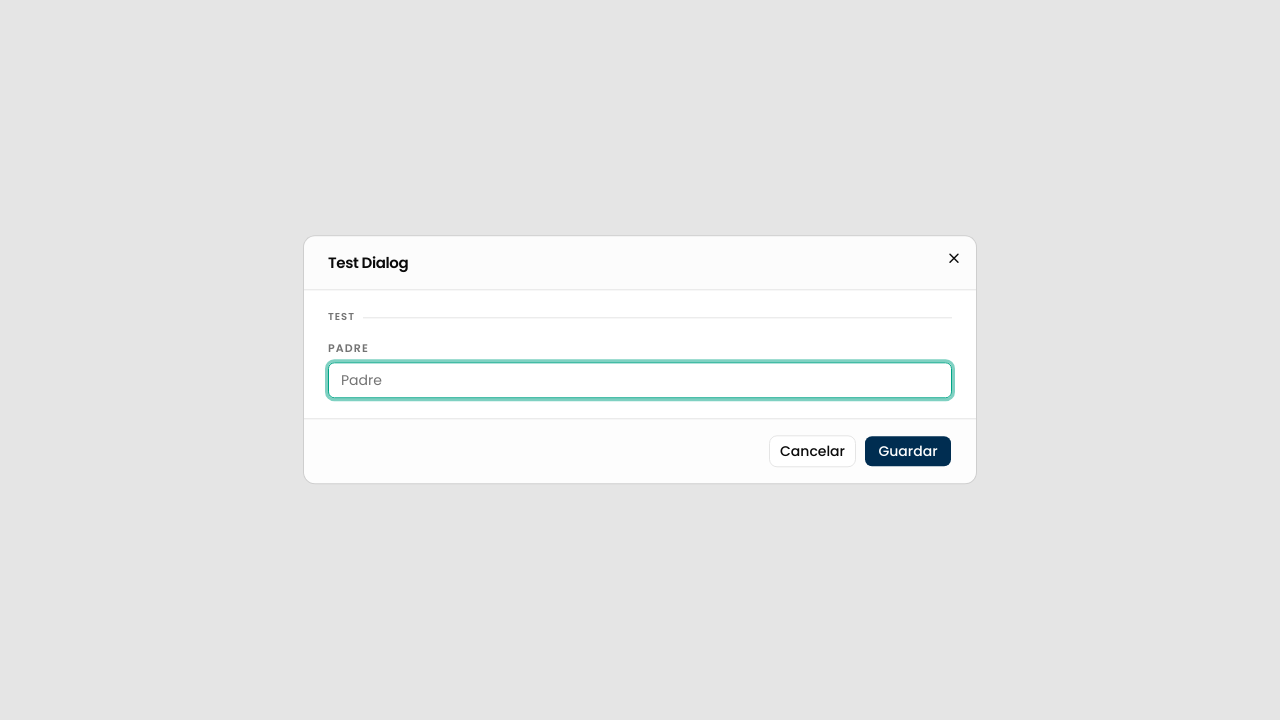
Scenario: AutocompleteField › closes dropdown on blur after 150ms
Type "ab" into the field with placeholder "Padre". click: (640, 381)
box: [328,363,952,399]
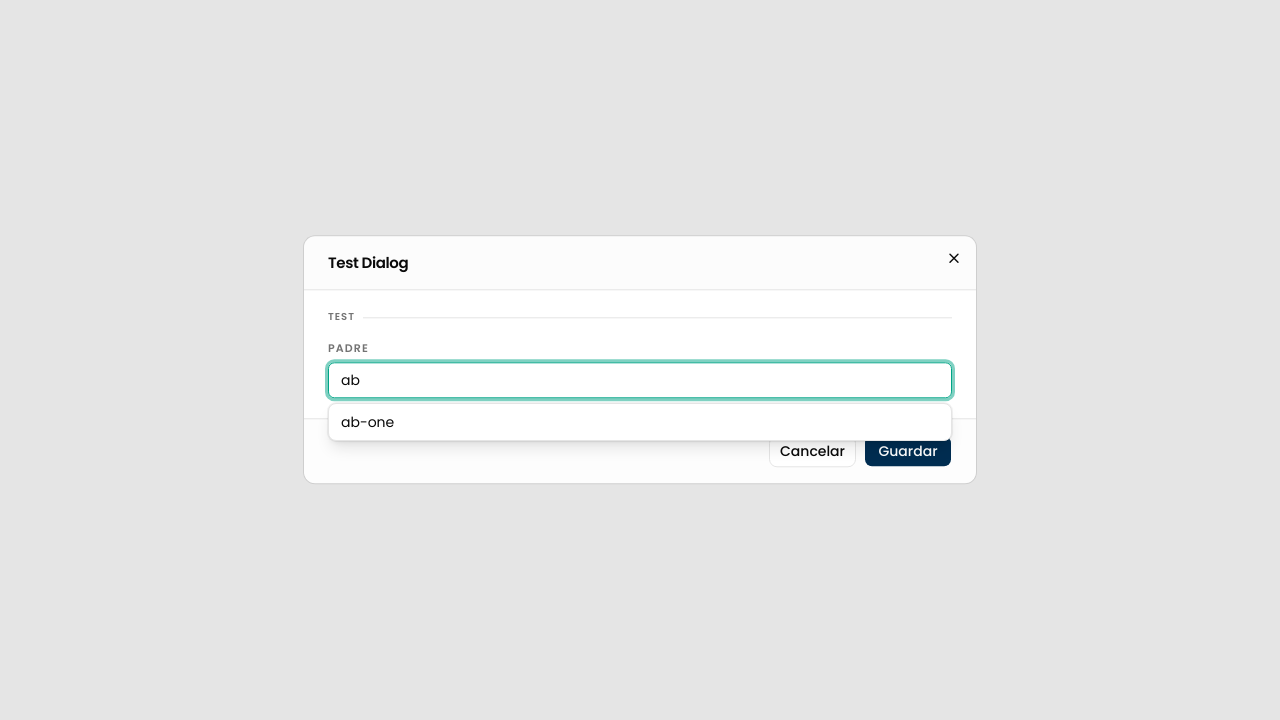
Now the list item "ab-one" is shown, box [341,412,394,432]
Press Tab
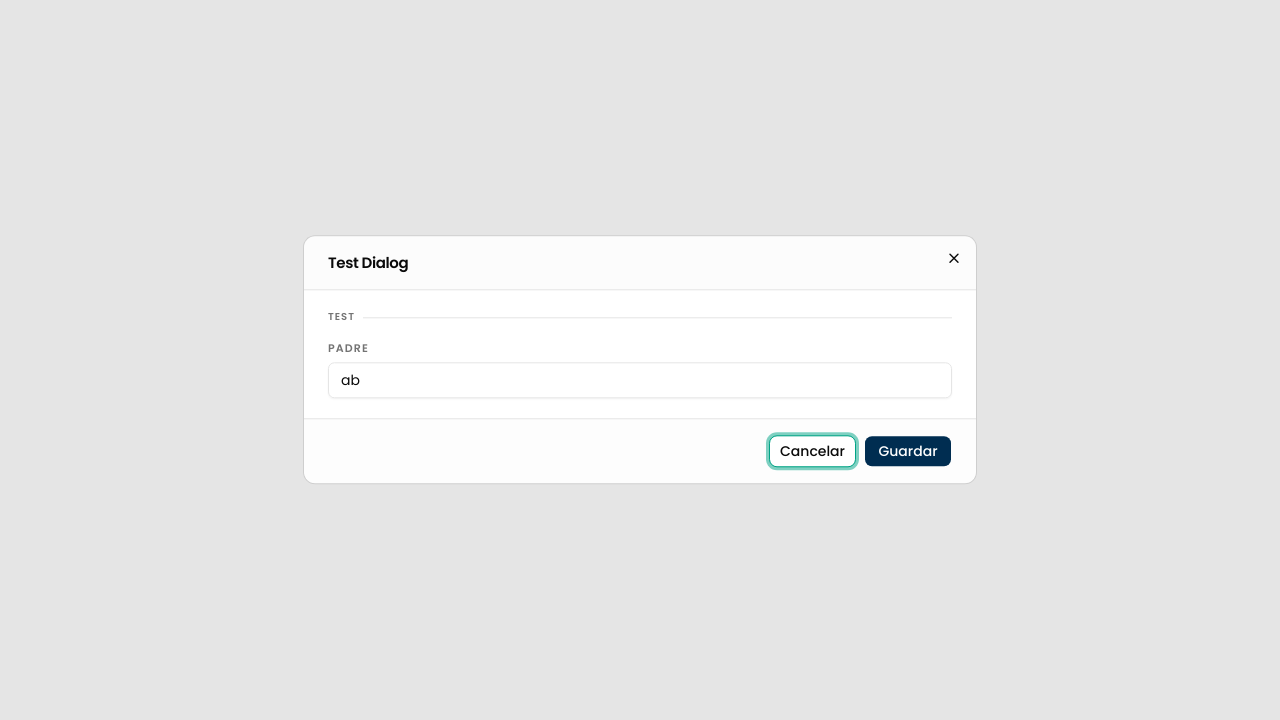
Now the list item "ab-one" is gone
